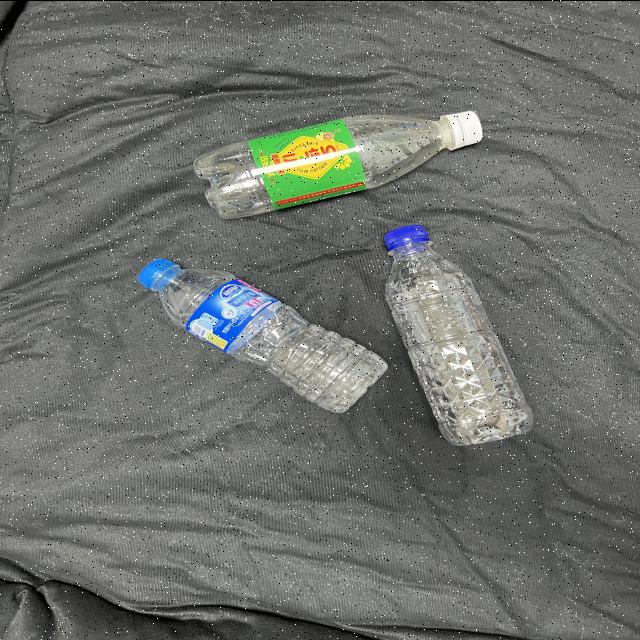plastic: (113, 239, 405, 431), (352, 209, 554, 474), (176, 82, 510, 234)
